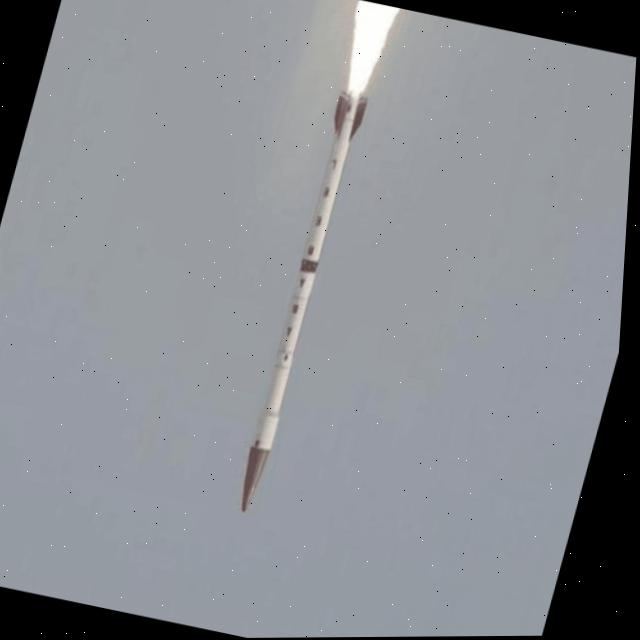missile: (228, 80, 375, 511)
